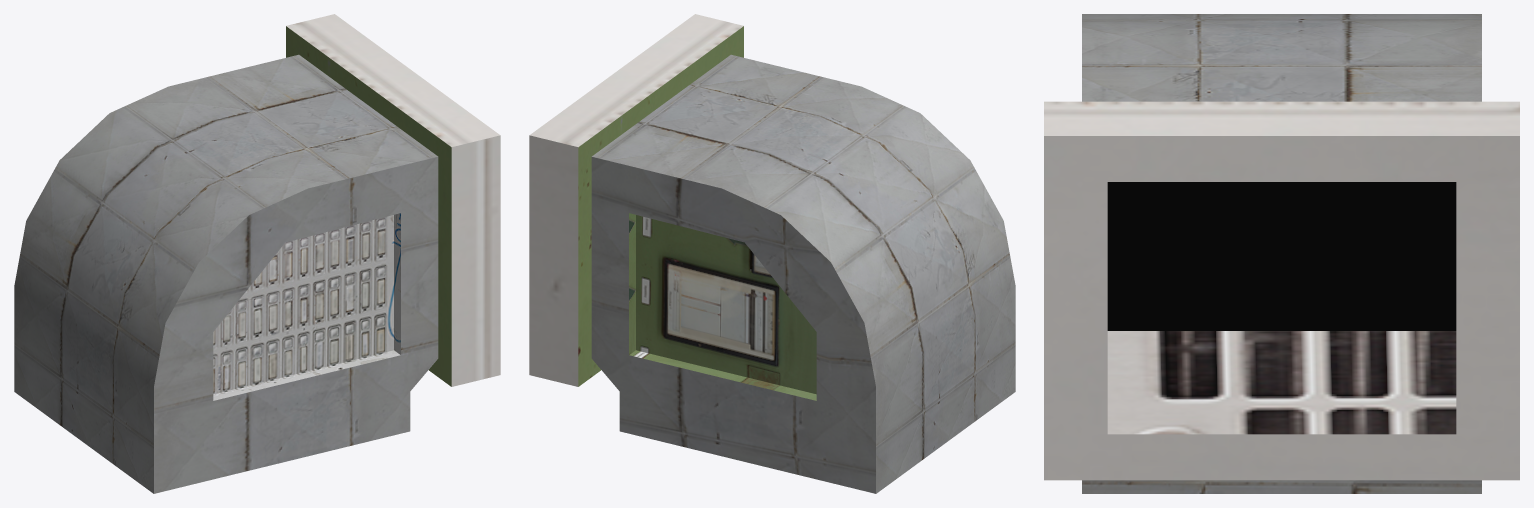
The model's file is fab3_vent_2.fbx.
The picture shows the model from 3 angles, left to right: view 1: azimuth 30°, elevation 25°; view 2: azimuth 150°, elevation 25°; view 3: azimuth 270°, elevation 25°; orthographic projection. The views are drawn at different scales.
Parts seen in each view (by area): view 1: vent1; view 2: vent1; view 3: vent1.
Boxes of the visible parts, left/top/right/bottom form: vent1: left=14, top=14, right=500, bottom=493; vent1: left=529, top=14, right=1015, bottom=493; vent1: left=1044, top=14, right=1519, bottom=493.
Size of the model in its own units: 1.96 by 1.61 by 1.69.
